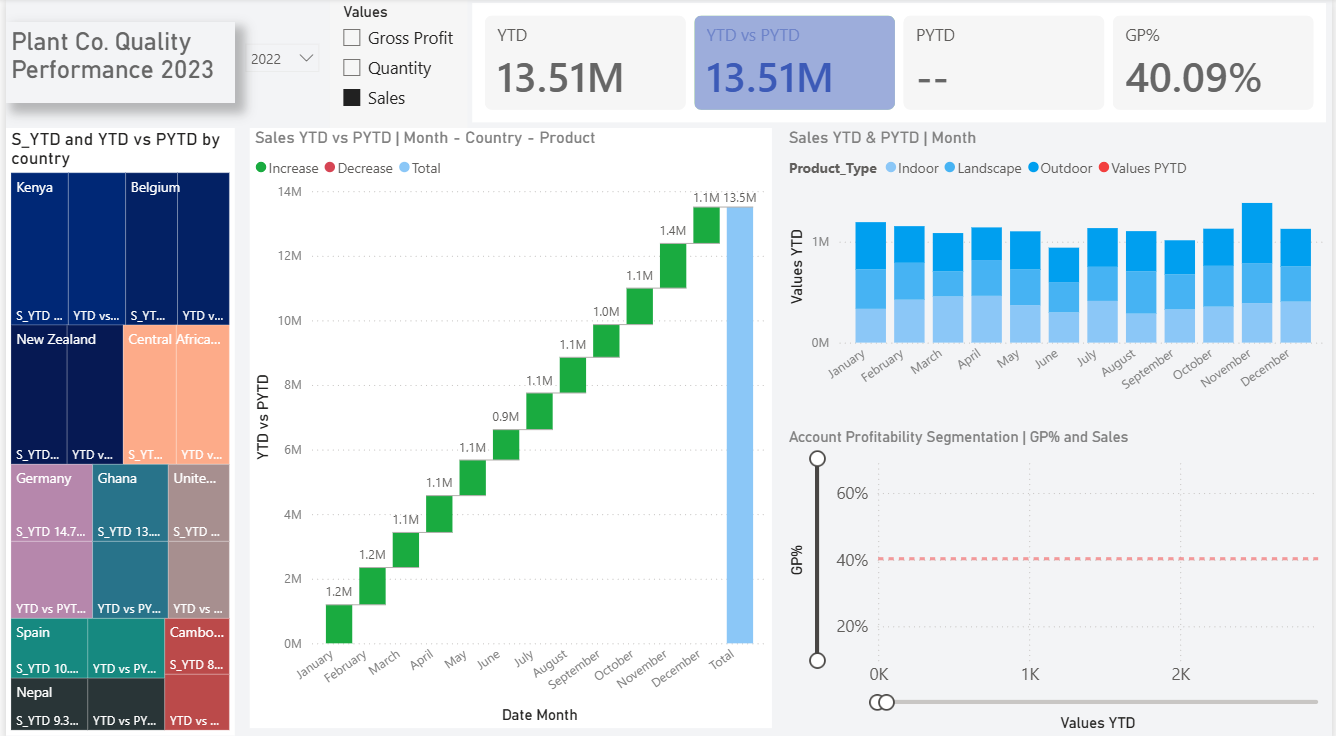

This screenshot's page, from the dashboard's own definition file:
{"tool":"powerbi","page":{"name":"Page 1","canvas":[1280,720],"ordinal":0},"visuals":[{"type":"cardVisual","fields":{"Data":["_Measures.S_YTD","_Measures.YTD vs PYTD","_Measures.S_PYTD","_Measures.GP%"]},"box":[445.2,0,834.9,125.5],"z":0},{"type":"slicer","fields":{"Values":["Dim_Date.Date.Variation.Date Hierarchy.Year"]},"box":[220.8,33.8,91.7,44.6],"z":1000},{"type":"slicer","fields":{"Values":["Slc_Values.Values"]},"box":[312.5,0,132.7,125.5],"z":2000},{"type":"treemap","fields":{"Values":["_Measures.S_YTD","_Measures.YTD vs PYTD"],"Group":["Dim_Accounts.country"]},"box":[0,125.5,220.8,586.3],"z":3000},{"type":"waterfallChart","fields":{"Y":["_Measures.YTD vs PYTD"],"Category":["Dim_Date.Date.Variation.Date Hierarchy.Month","Dim_Product.Produt_Type","Dim_Product.Product_Name"]},"box":[235.3,125.5,504.3,579.1],"z":4000},{"type":"lineStackedColumnComboChart","fields":{"Y":["_Measures.S_YTD"],"Y2":["_Measures.S_PYTD"],"Category":["Dim_Date.Date.Variation.Date Hierarchy.Month"],"Series":["Dim_Product.Produt_Type"]},"box":[750.4,125.5,529.6,275.1],"z":5000},{"type":"scatterChart","fields":{"Y":["_Measures.GP%"],"X":["_Measures.S_YTD"],"Category":["Dim_Accounts.Account"]},"box":[750.4,415,529.6,296.8],"z":6000},{"type":"textbox","box":[0,22.9,220.8,78.4],"z":7000}]}

Visuals, with their boxes in screenshot pixels (x1, y1, x2, y2), scaled from the page's 1280x720 canvas onto the 1336x736 screenshot:
cardVisual - _Measures.S_YTD x _Measures.YTD vs PYTD: BBox(465, 0, 1335, 128)
slicer - Dim_Date.Date.Variation.Date Hierarchy.Year: BBox(230, 35, 326, 80)
slicer - Slc_Values.Values: BBox(326, 0, 465, 128)
treemap - _Measures.S_YTD x _Measures.YTD vs PYTD: BBox(0, 128, 230, 728)
waterfallChart - _Measures.YTD vs PYTD x Dim_Date.Date.Variation.Date Hierarchy.Month: BBox(246, 128, 772, 720)
lineStackedColumnComboChart - _Measures.S_YTD x _Measures.S_PYTD: BBox(783, 128, 1335, 410)
scatterChart - _Measures.GP% x _Measures.S_YTD: BBox(783, 424, 1335, 728)
textbox: BBox(0, 23, 230, 104)
